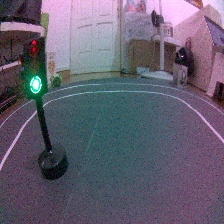green: (20, 34, 72, 182)
